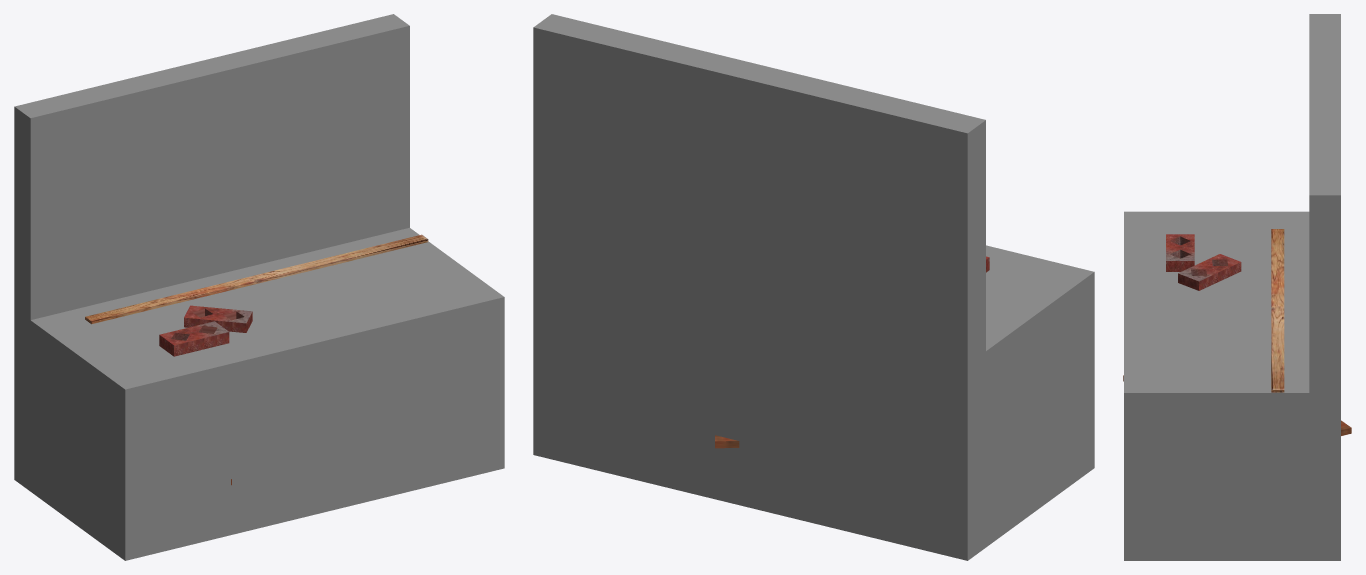
File: Workbench.obj
3 renders of one model, left to right at view 1: azimuth 30°, elevation 25°; view 2: azimuth 150°, elevation 25°; view 3: azimuth 270°, elevation 25°, orthographic. The views are drawn at different scales.
Visible parts, largest first — view 1: Geometry, Workbench; view 2: Geometry; view 3: Geometry, Workbench.
Boxes of the visible parts, box(x1,y1,x2,y2) form: Geometry: box(14, 14, 504, 560); Workbench: box(85, 234, 428, 485); Geometry: box(533, 14, 1094, 560); Geometry: box(1124, 14, 1340, 560); Workbench: box(1123, 229, 1351, 435).
Bounding box in the file's own units: 46.31 × 43.55 × 24.62.
